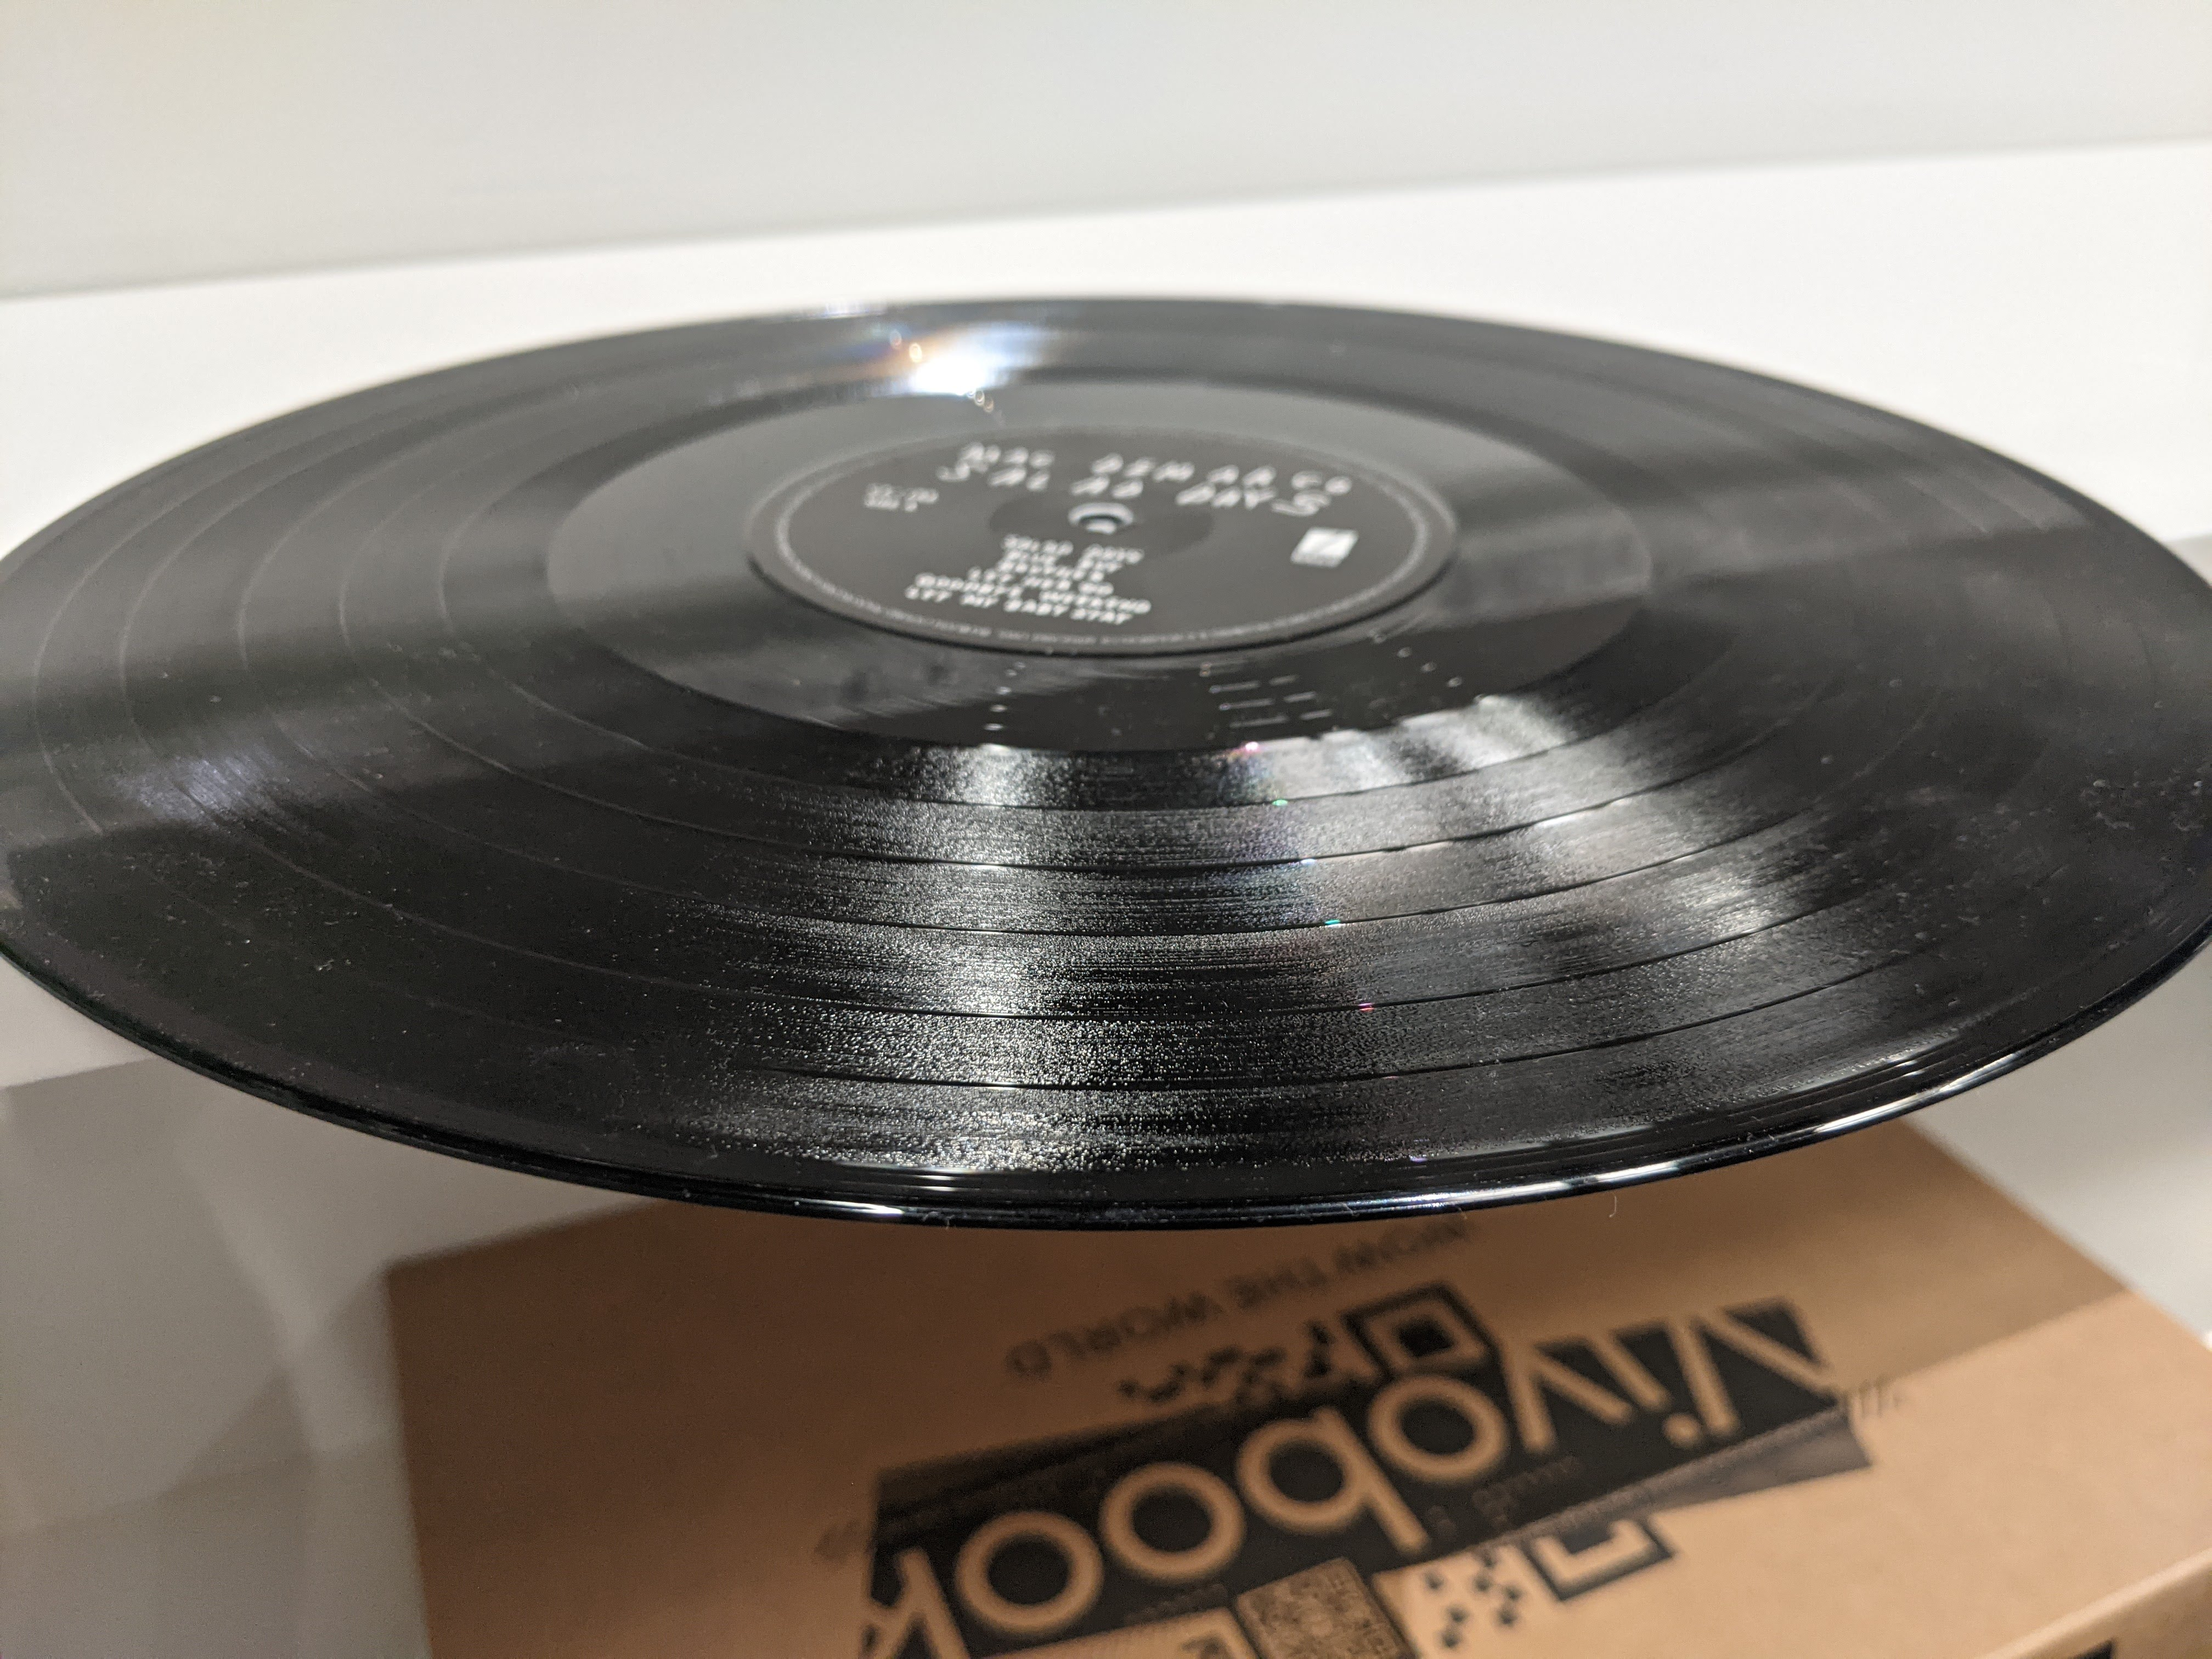song_edge: (411, 554, 495, 669), (16, 653, 77, 795), (218, 603, 287, 718), (324, 575, 387, 695), (105, 629, 157, 744)
